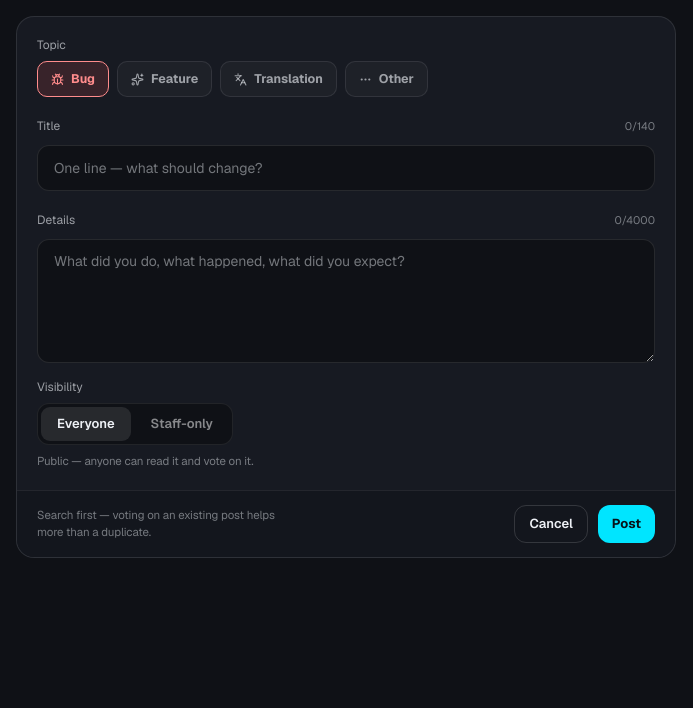
Test: NewFeedbackForm › hides translation-specific fields for a bug post and reveals them after switching to Translation
Expected: the field labelled "suggested wording" is not shown
Click the radio button labelled "Translation" at point(278, 79), box [220,61,337,97]
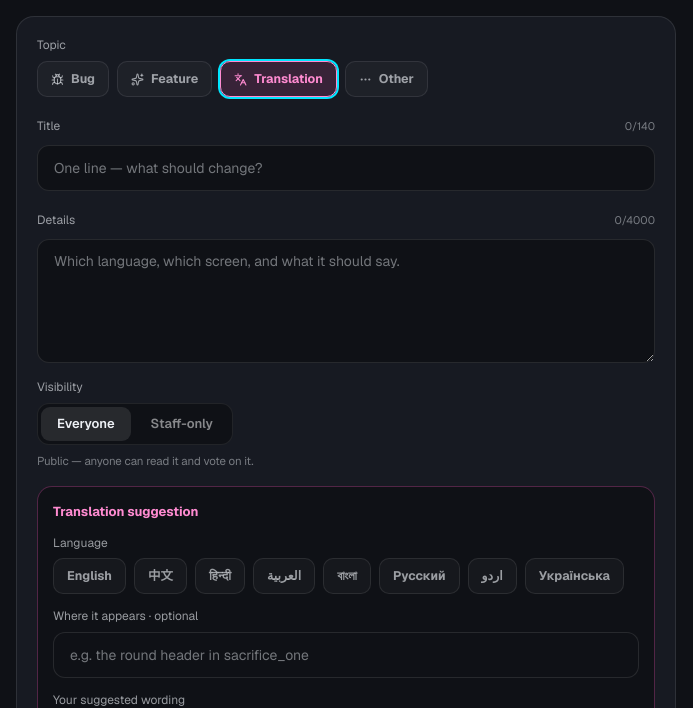
Result: the element named "language" is shown at [53,558,639,594]
